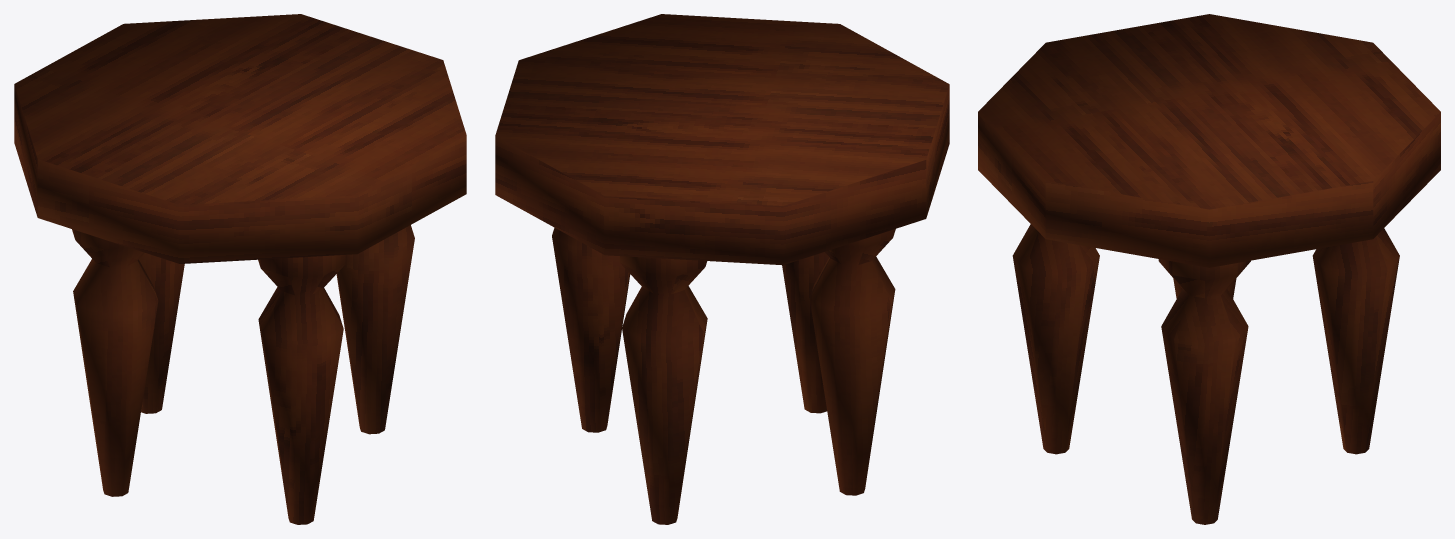
The model's file is table_small.glb.
3 renders of one model, left to right at view 1: azimuth 30°, elevation 25°; view 2: azimuth 150°, elevation 25°; view 3: azimuth 270°, elevation 25°, orthographic.
Parts seen in each view (by area): view 1: Circle; view 2: Circle; view 3: Circle.
Part boxes in pixels (box(x1,y1,x2,y2)): Circle: box(14, 14, 466, 524); Circle: box(495, 14, 949, 524); Circle: box(978, 14, 1440, 524).
Size of the model in its own units: 0.7754 by 0.638 by 0.7754.
Materials: 1 (1 with a texture image).
